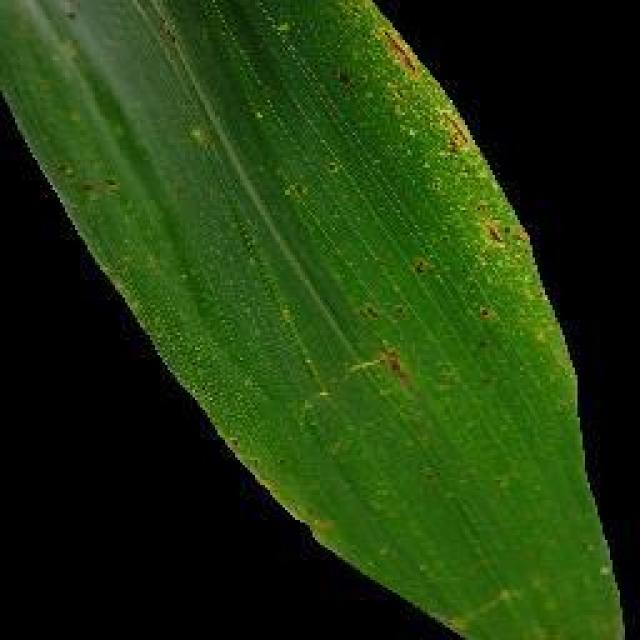Corn Common Rust: (412, 48, 585, 417)
